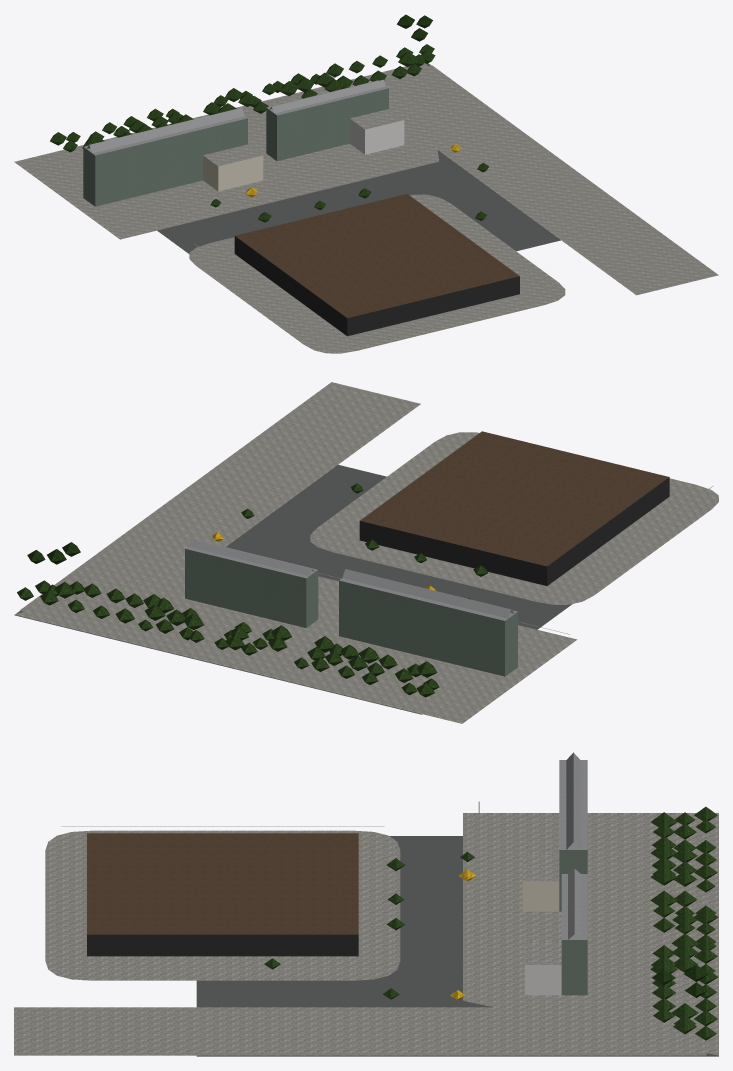
File: cidade_S07_07_lod.gltf
3 views of the same model, one above another, from view 1: azimuth 30°, elevation 25°; view 2: azimuth 150°, elevation 25°; view 3: azimuth 270°, elevation 25° (orthographic). The views are drawn at different scales.
Parts seen in each view (by area): view 1: S07_07_Chao_LOD2, S07_07_Edificios_LOD1, S07_07_Silhueta_LOD2, S07_07_Vegetacao_LOD2; view 2: S07_07_Chao_LOD2, S07_07_Edificios_LOD1, S07_07_Silhueta_LOD2, S07_07_Vegetacao_LOD2; view 3: S07_07_Chao_LOD2, S07_07_Edificios_LOD1, S07_07_Vegetacao_LOD2, S07_07_Silhueta_LOD2.
Boxes of the visible parts, <box> form: S07_07_Chao_LOD2: <box>14,63,718,353</box>; S07_07_Edificios_LOD1: <box>83,79,519,341</box>; S07_07_Silhueta_LOD2: <box>83,80,388,206</box>; S07_07_Vegetacao_LOD2: <box>50,14,488,222</box>; S07_07_Chao_LOD2: <box>14,382,718,723</box>; S07_07_Edificios_LOD1: <box>185,431,713,676</box>; S07_07_Silhueta_LOD2: <box>185,540,517,675</box>; S07_07_Vegetacao_LOD2: <box>17,483,487,697</box>; S07_07_Chao_LOD2: <box>14,813,718,1056</box>; S07_07_Edificios_LOD1: <box>61,752,587,995</box>; S07_07_Vegetacao_LOD2: <box>264,806,718,1040</box>; S07_07_Silhueta_LOD2: <box>559,760,587,995</box>.
Size of the model in its own units: 111 by 15.71 by 135.
Materials: 12 (12 with a texture image).
